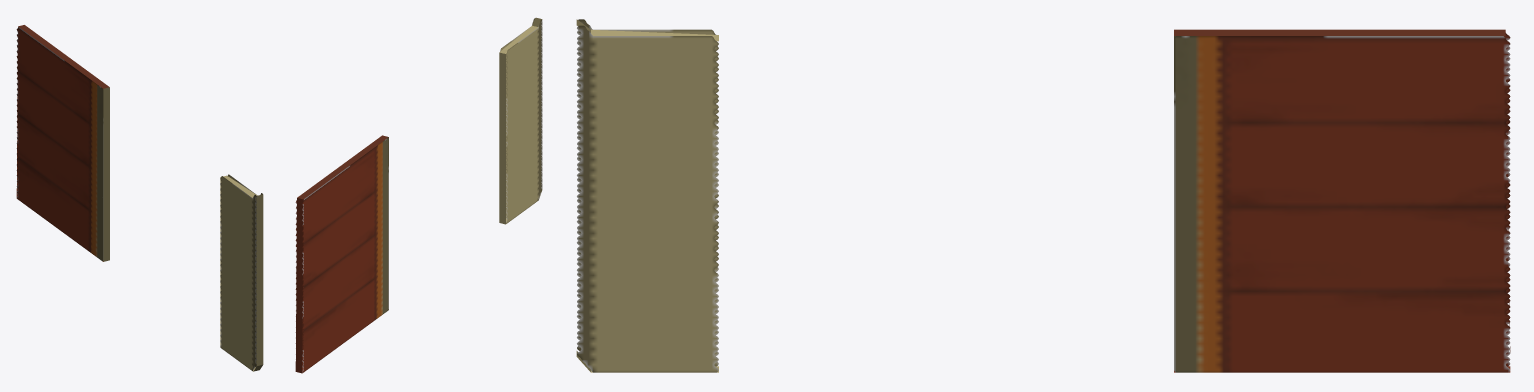
File: pz_native_location_restaurant_spiffos_01_72_frame.obj
3 views of the same model, side by side, from view 1: azimuth 30°, elevation 25°; view 2: azimuth 150°, elevation 25°; view 3: azimuth 270°, elevation 25° (orthographic). The views are drawn at different scales.
Visible parts, largest first — view 1: pz_native_location_restaurant_spiffos_01_72_frame; view 2: pz_native_location_restaurant_spiffos_01_72_frame; view 3: pz_native_location_restaurant_spiffos_01_72_frame.
Part boxes in pixels (x1,y1,x2,y2): pz_native_location_restaurant_spiffos_01_72_frame: (16, 25, 263, 371); pz_native_location_restaurant_spiffos_01_72_frame: (295, 17, 542, 373); pz_native_location_restaurant_spiffos_01_72_frame: (576, 19, 1510, 372).
Size of the model in its own units: 0.04 by 1.06 by 2.55.
1 material, 1 textured.
